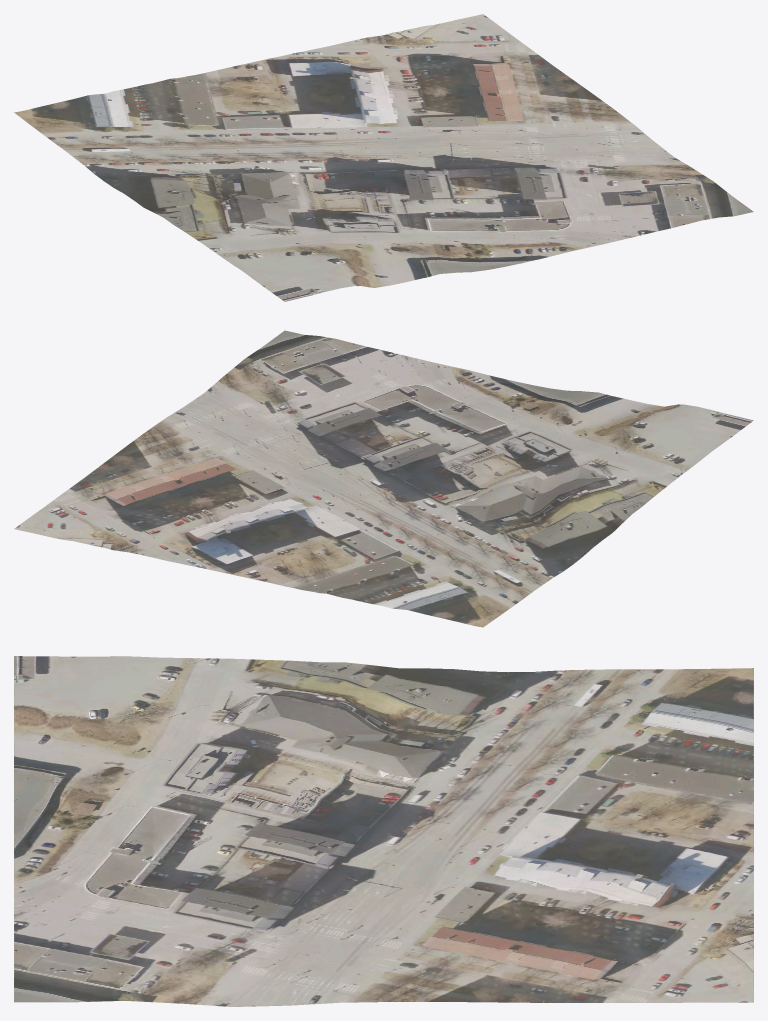
File: CM_Terrain_24489639_6820613.fbx
The picture shows the model from 3 angles, top to bottom: view 1: azimuth 30°, elevation 25°; view 2: azimuth 150°, elevation 25°; view 3: azimuth 270°, elevation 25°; orthographic projection. The views are drawn at different scales.
Visible parts, largest first — view 1: CM_Terrain_24489639_6820613_LOD0; view 2: CM_Terrain_24489639_6820613_LOD0; view 3: CM_Terrain_24489639_6820613_LOD0.
Boxes of the visible parts, x1,y1,x2,y2 form: CM_Terrain_24489639_6820613_LOD0: [14, 14, 753, 301]; CM_Terrain_24489639_6820613_LOD0: [14, 330, 753, 627]; CM_Terrain_24489639_6820613_LOD0: [14, 656, 753, 1006].
Size of what is drawn, in the model's own units: 205 by 11.79 by 205.
